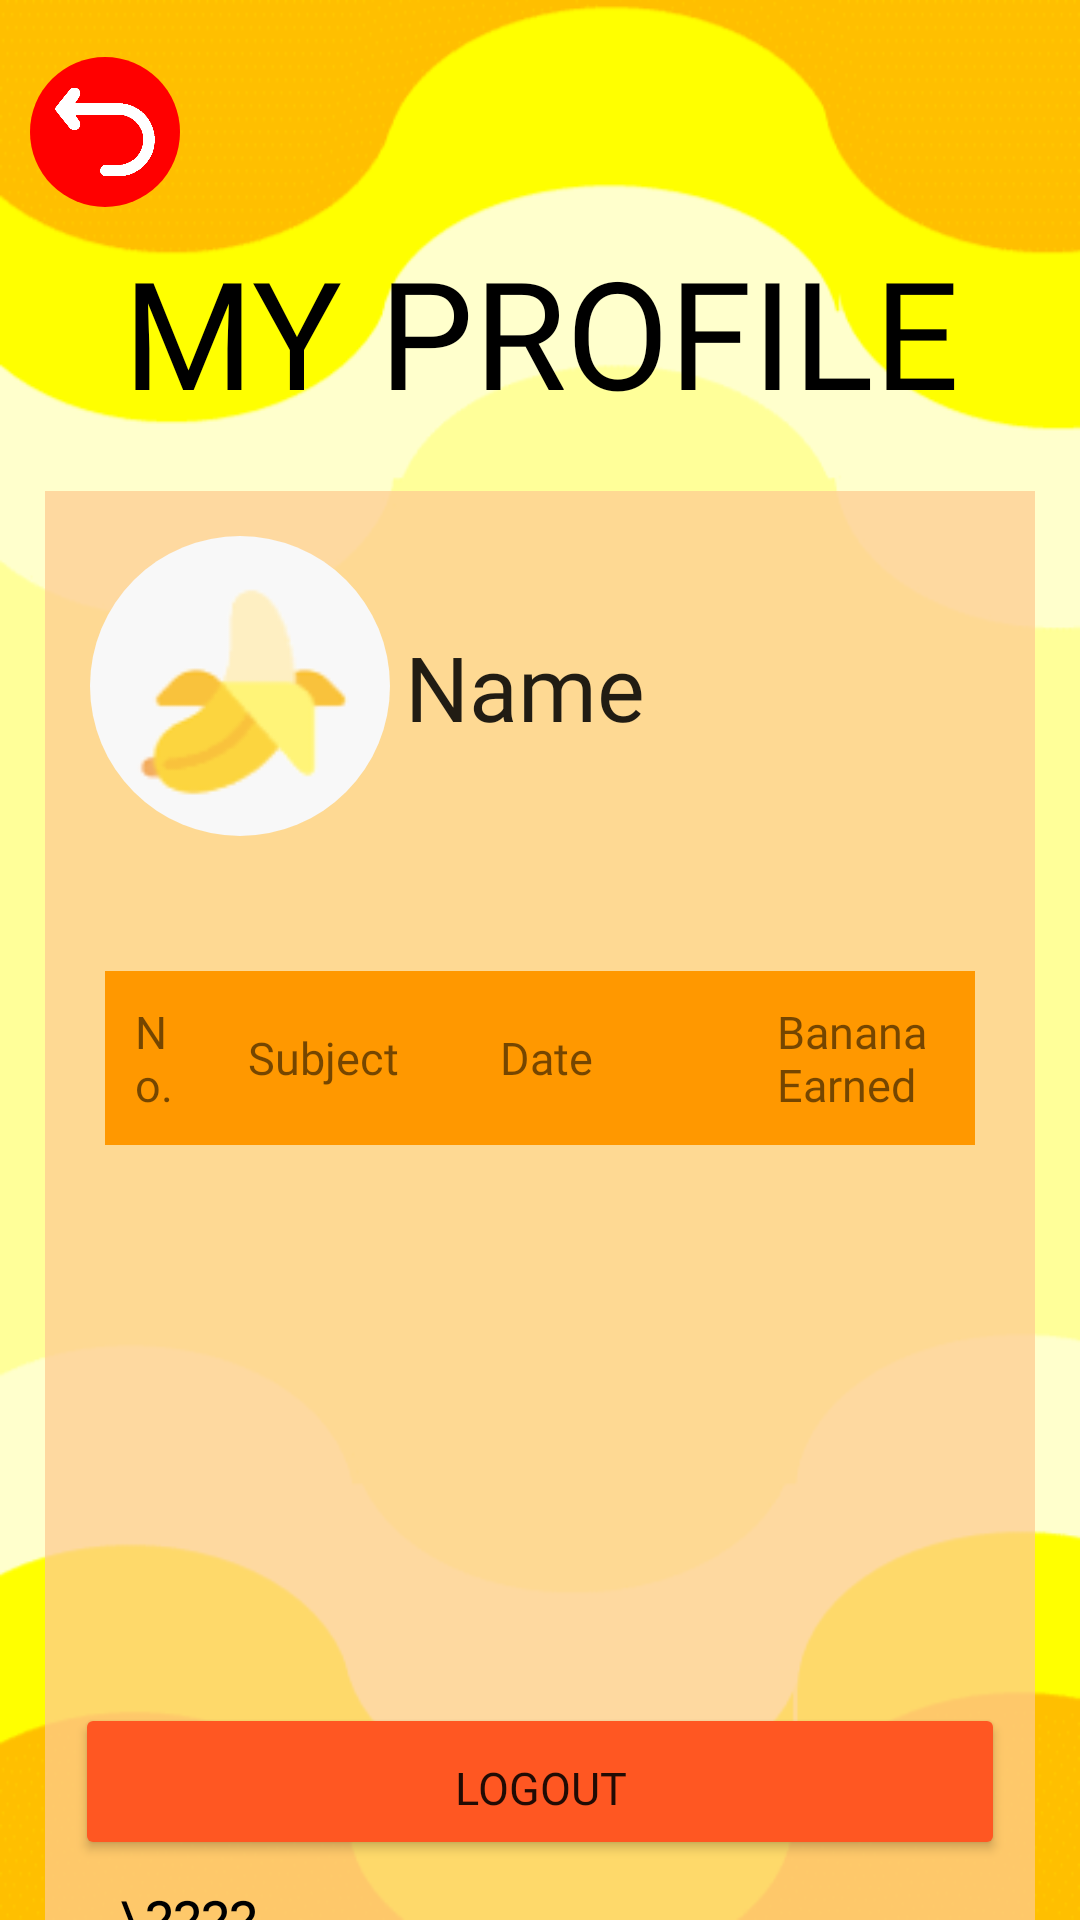

Screen size 1080 × 1920. Icon name, then its box in pixels as bbox(x1, y1, x2, y2):
back: bbox(30, 57, 180, 207)
